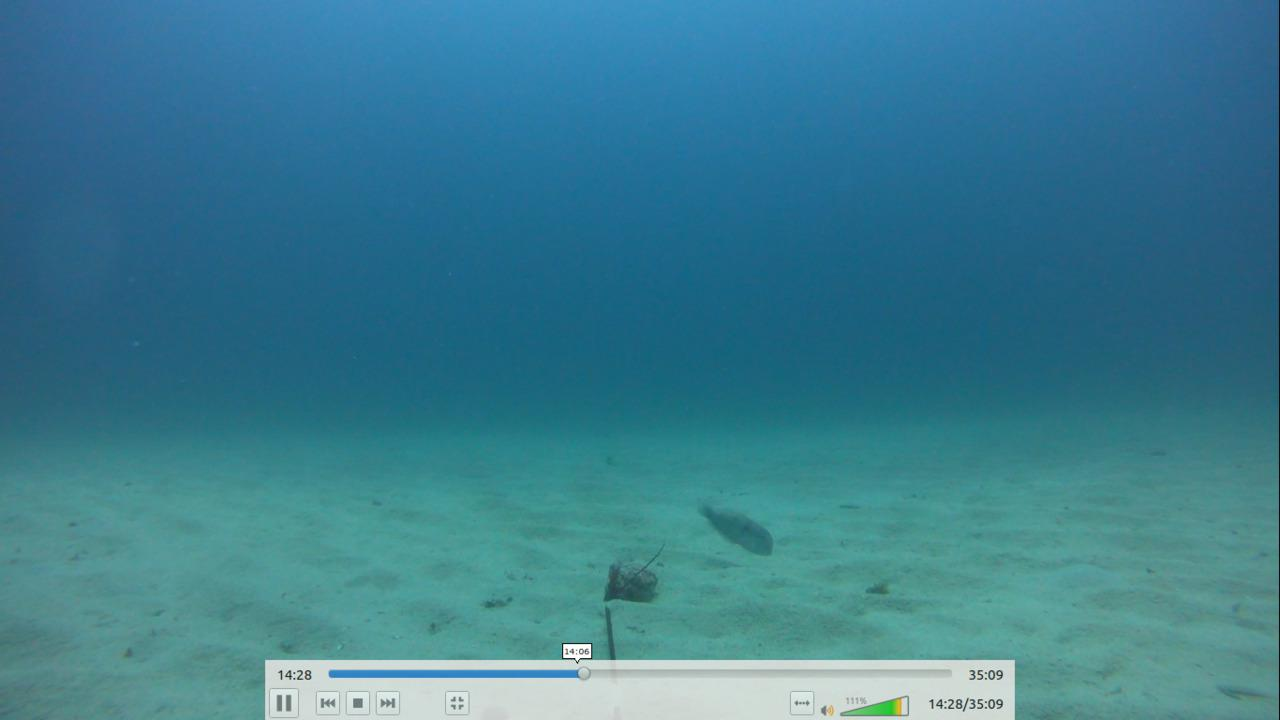raor: (681, 497, 778, 558)
